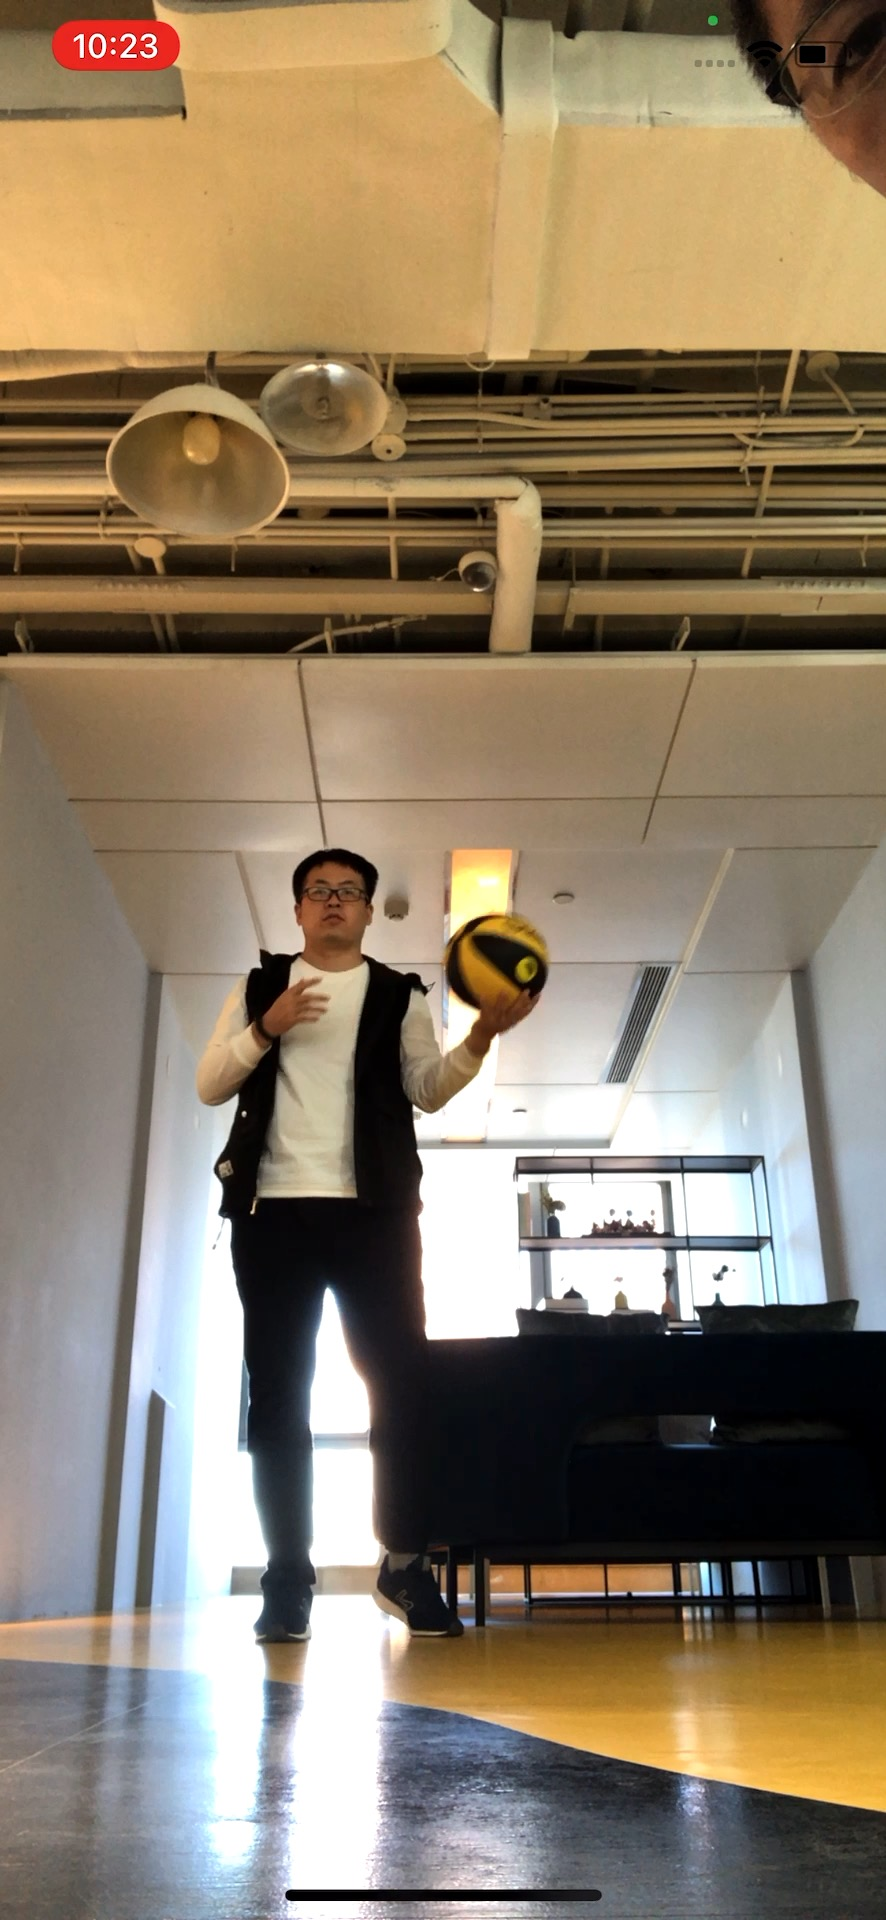ball: (443, 912, 551, 1011)
